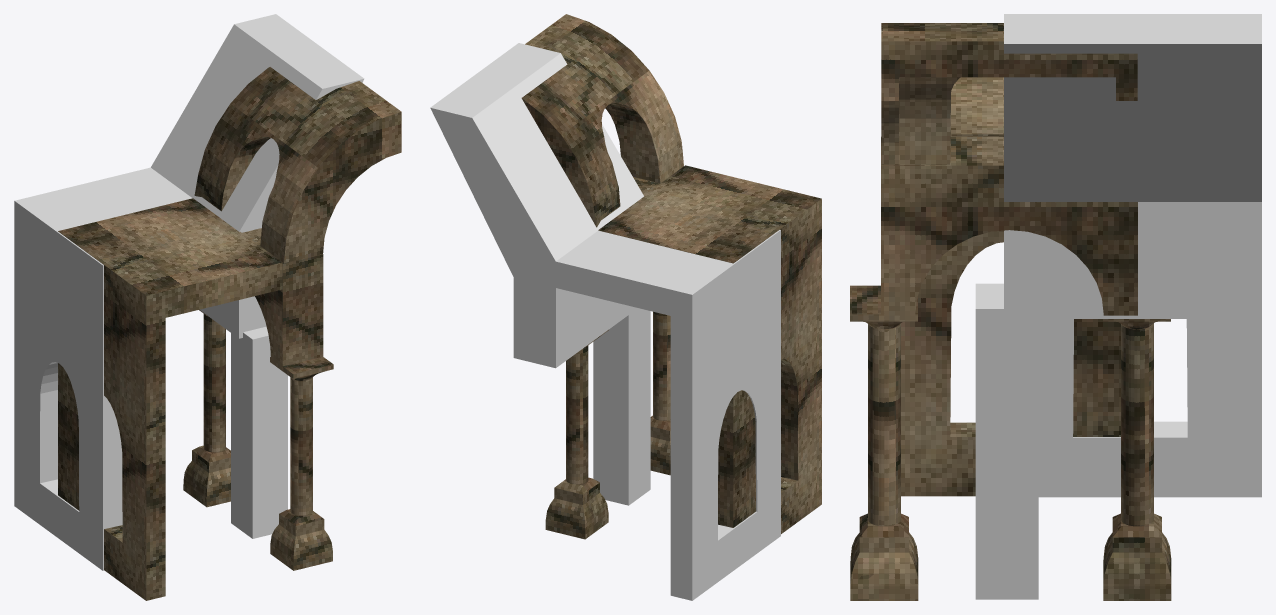
The model's file is Normal.gltf.
3 renders of one model, left to right at view 1: azimuth 30°, elevation 25°; view 2: azimuth 150°, elevation 25°; view 3: azimuth 270°, elevation 25°, orthographic. The views are drawn at different scales.
Parts seen in each view (by area): view 1: 円.002, COL.001, COL; view 2: COL.001, 円.002, COL; view 3: COL.001, 円.002, COL.
Part boxes in pixels (<box>): 円.002: <box>58,67,401,600</box>; COL.001: <box>14,14,364,570</box>; COL: <box>231,326,287,538</box>; COL.001: <box>430,43,780,600</box>; 円.002: <box>521,14,821,539</box>; COL: <box>593,308,650,505</box>; COL.001: <box>1004,14,1261,497</box>; 円.002: <box>850,23,1171,600</box>; COL: <box>975,283,1038,599</box>.
Bounding box in the file's own units: 26.78 × 41.89 × 25.04.
Materials: 1 (1 with a texture image).
